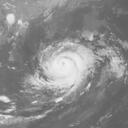cyclone: (28, 40, 96, 98)
